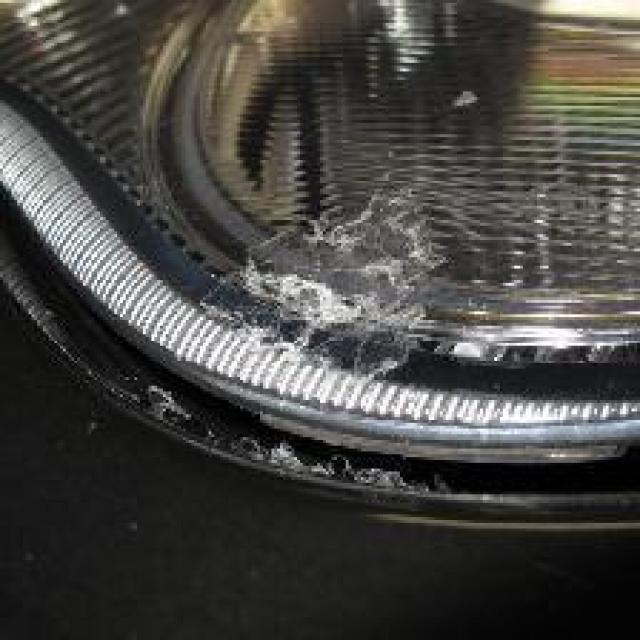damaged: (185, 188, 460, 394)
